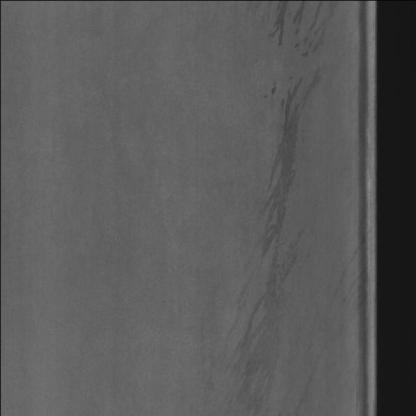water_spot: (237, 7, 326, 399)
